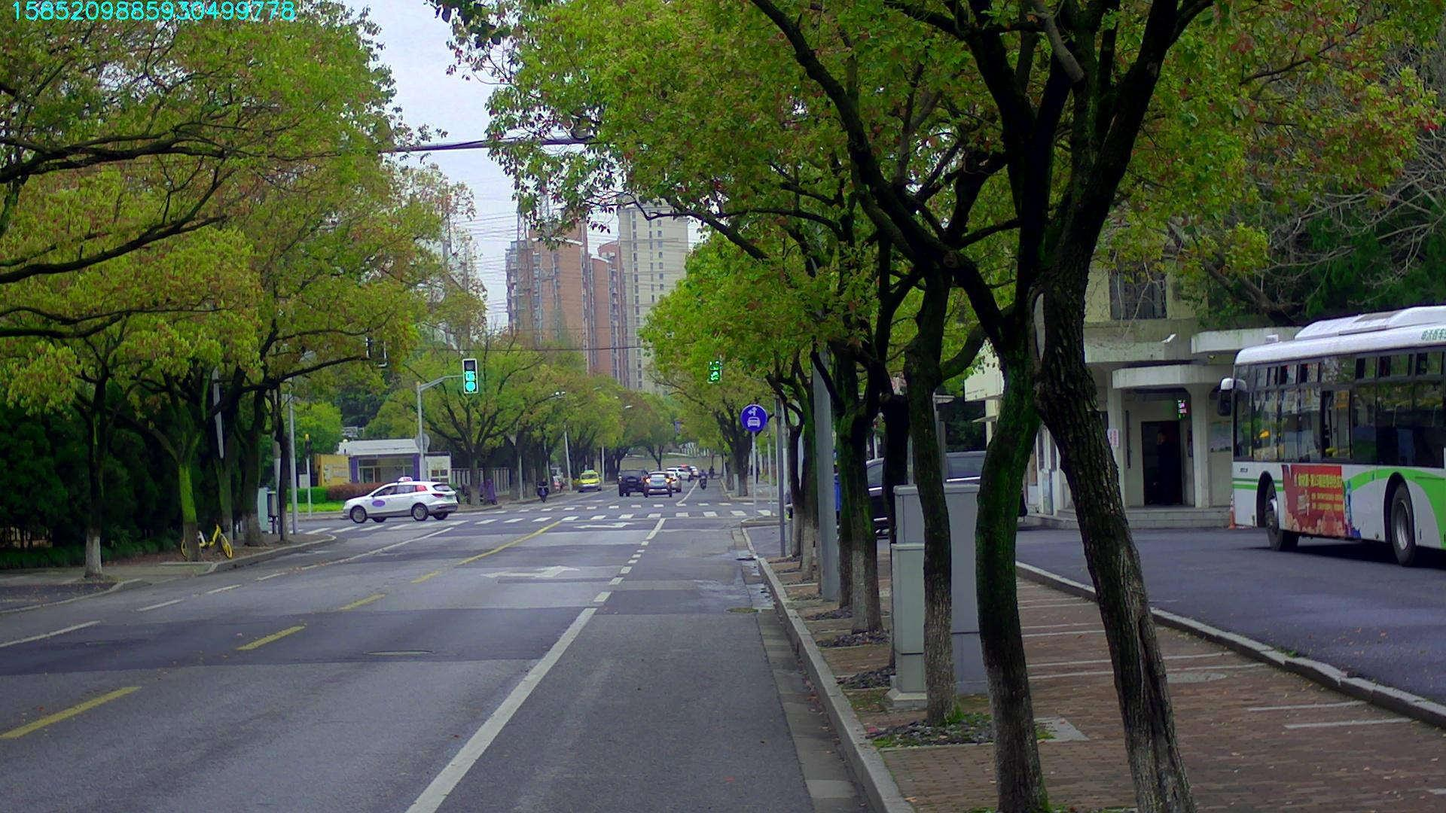green: (462, 359, 477, 392), (708, 353, 720, 382)
